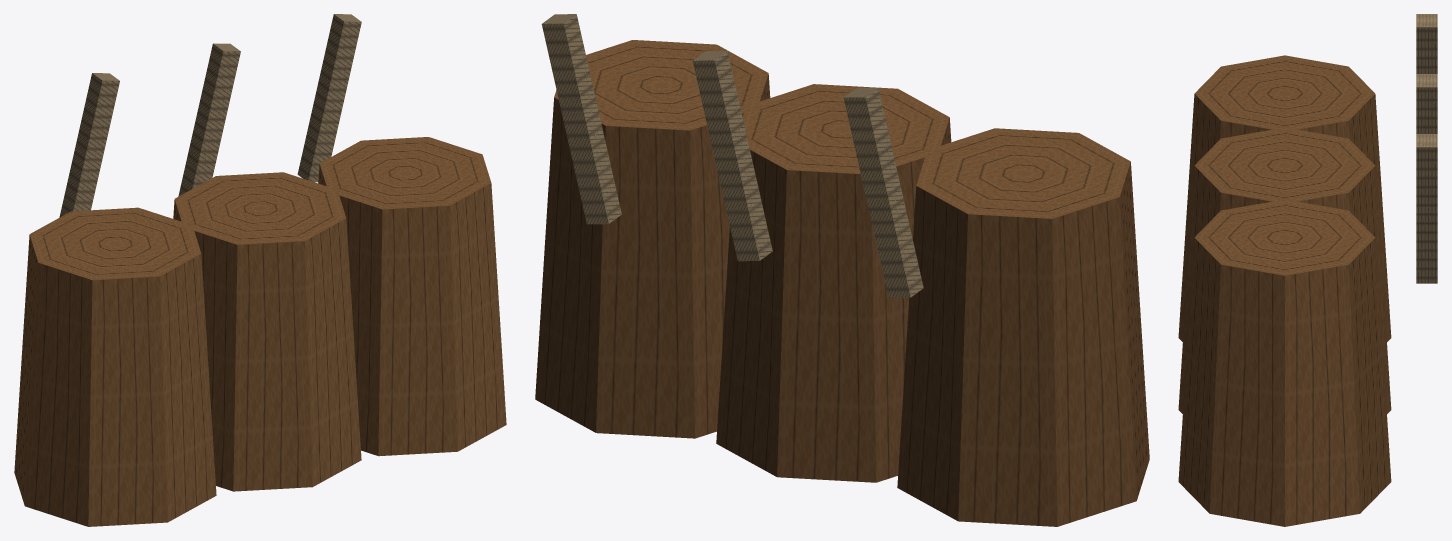
File: military-INFERNO_SEED-1-lod0.glb
The picture shows the model from 3 angles, left to right: view 1: azimuth 30°, elevation 25°; view 2: azimuth 150°, elevation 25°; view 3: azimuth 270°, elevation 25°; orthographic projection. The views are drawn at different scales.
Size of the model in its own units: 0.39 by 0.2718 by 0.1825.
1 material, 1 textured.
